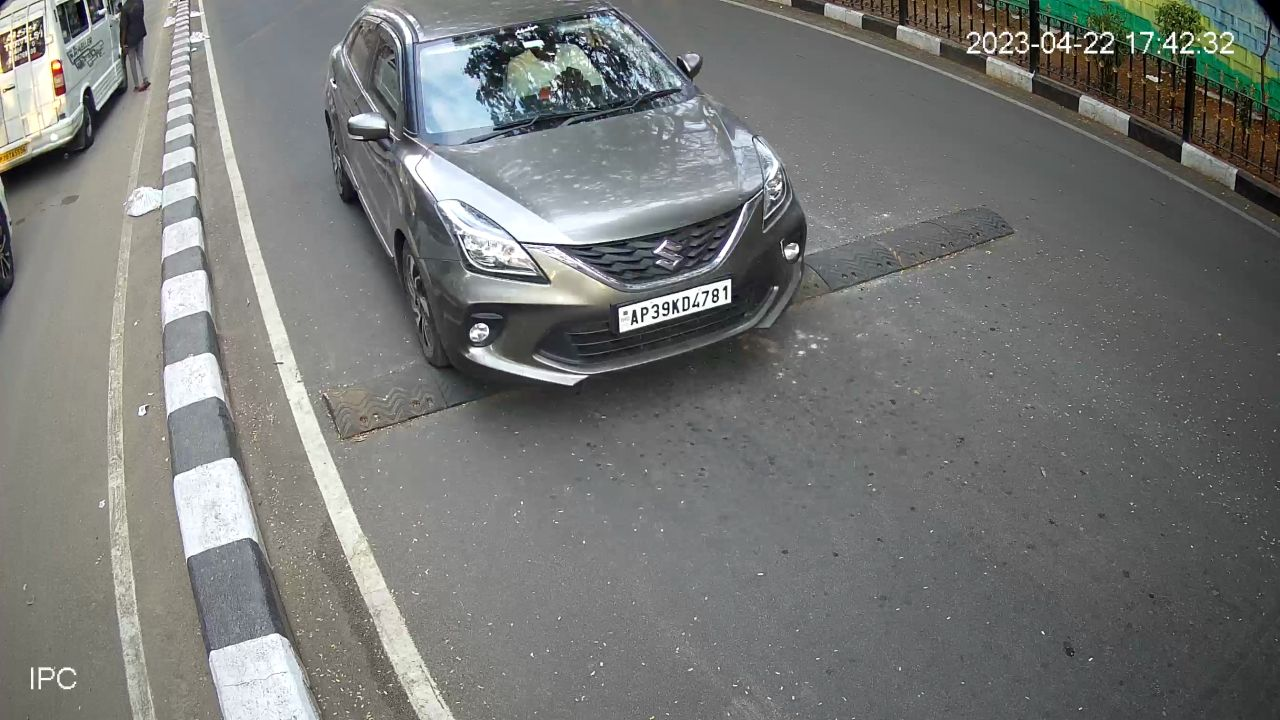license_plate: (612, 276, 740, 343)
